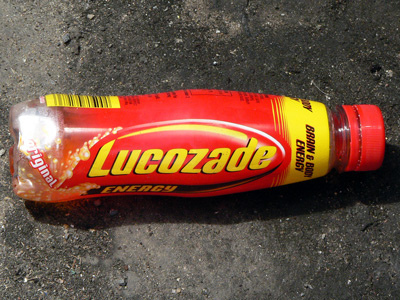litter: (7, 88, 387, 201)
